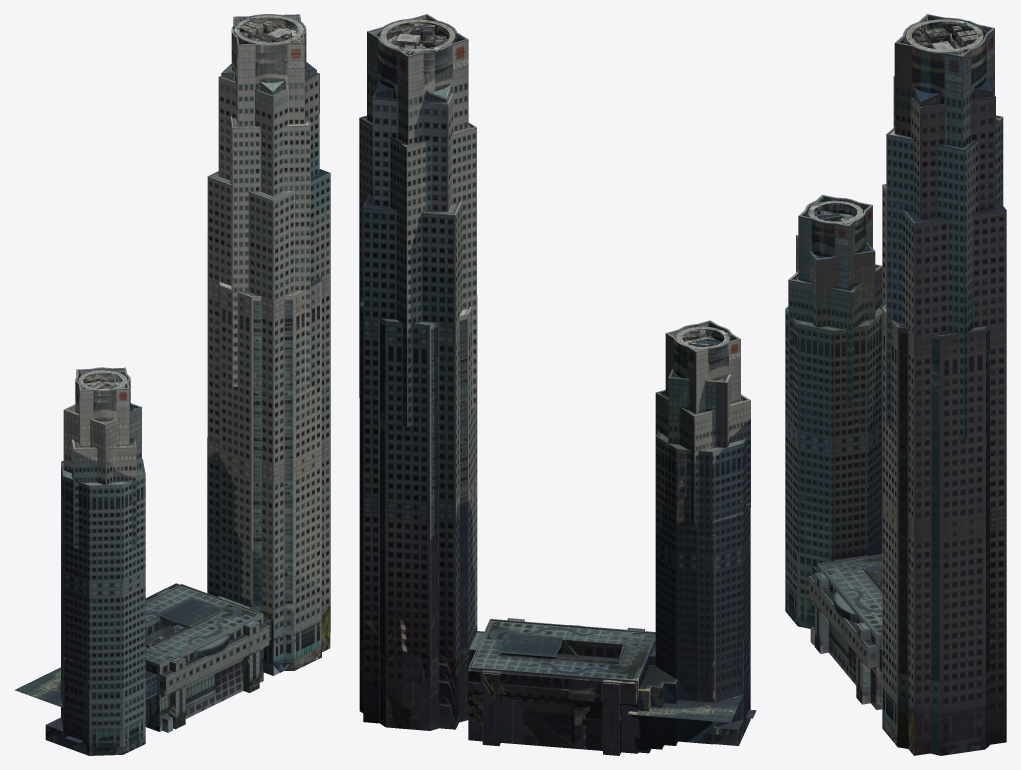
The picture shows the model from 3 angles, left to right: view 1: azimuth 30°, elevation 25°; view 2: azimuth 150°, elevation 25°; view 3: azimuth 270°, elevation 25°; orthographic projection. The views are drawn at different scales.
Visible parts, largest first — view 1: 5_0.glb; view 2: 5_0.glb; view 3: 5_0.glb.
Boxes of the visible parts, <box> form: 5_0.glb: <box>14,14,330,755</box>; 5_0.glb: <box>359,14,756,755</box>; 5_0.glb: <box>785,14,1006,755</box>.
Bounding box in the file's own units: 151 × 280 × 80.83.
1 material, 1 textured.
